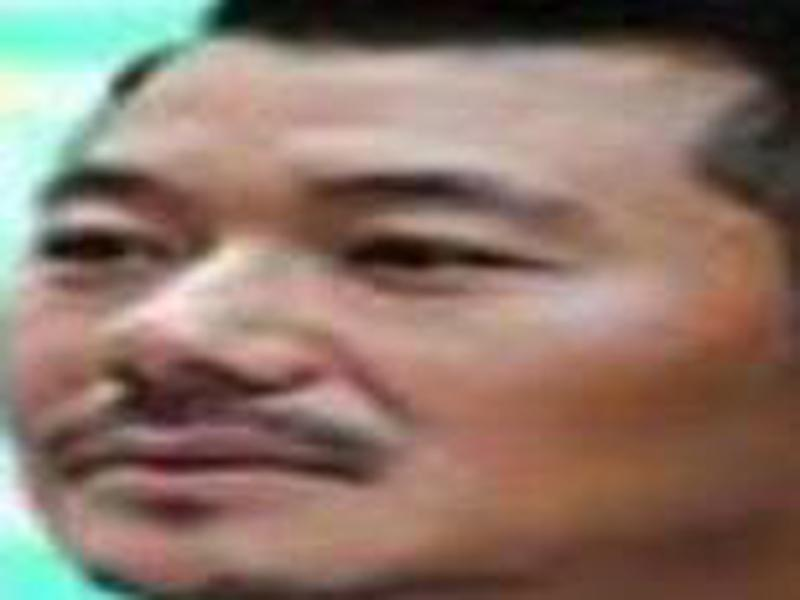without_mask: (6, 40, 682, 600)
